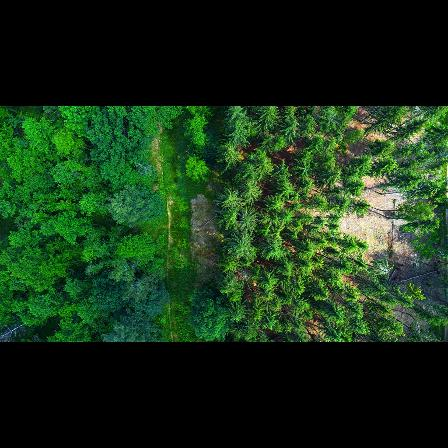Dead: (0, 318, 27, 342)
